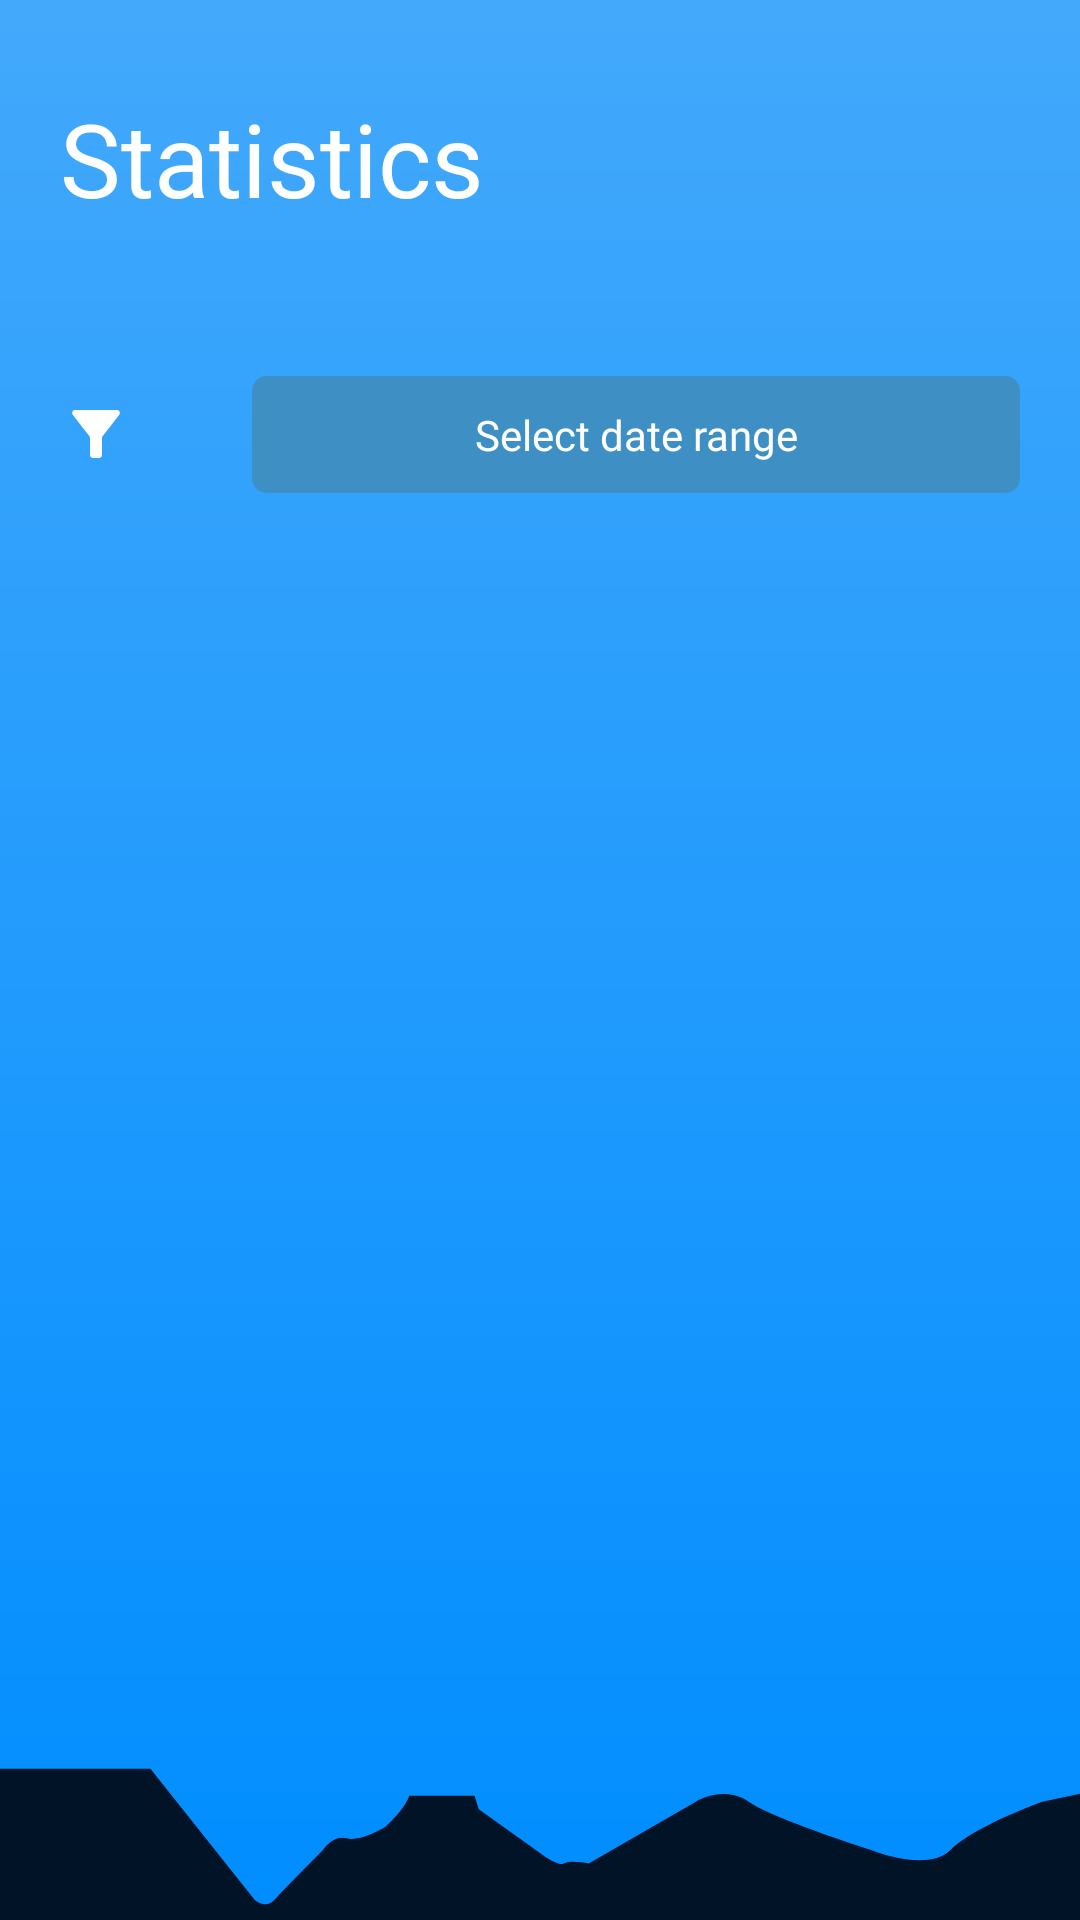

Icons on this 1080×1920 Android screen, each with the point to tap as (x=x, y=y):
filter: (x=96, y=434)
